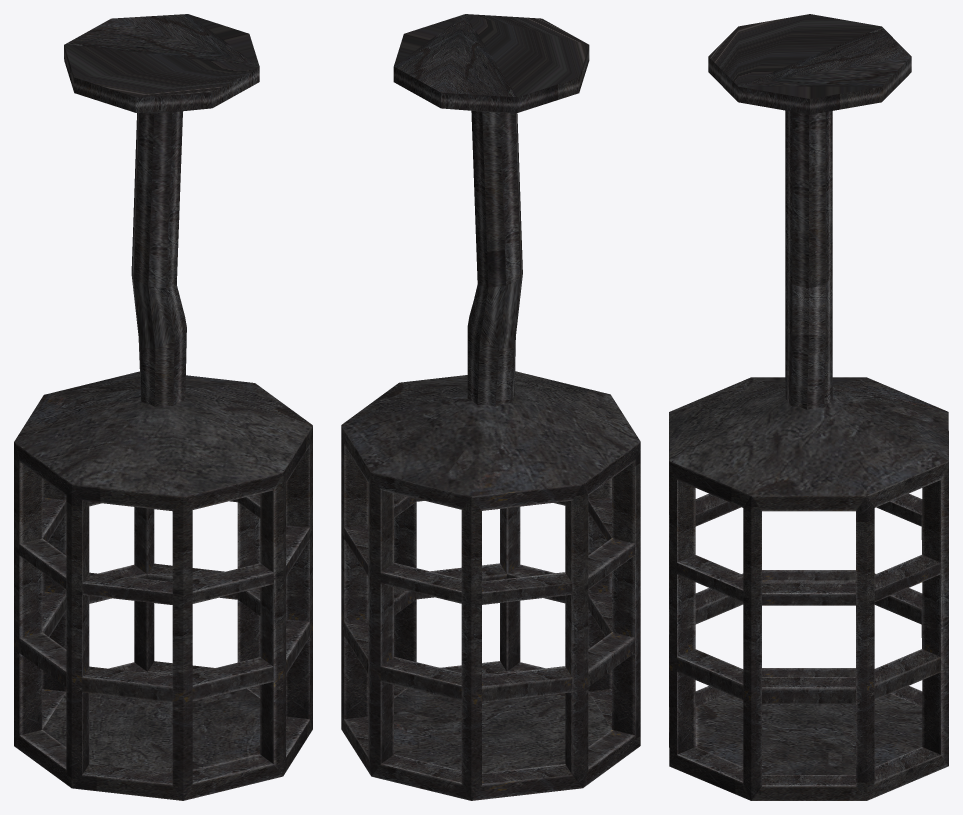
The model's file is tavern_lamp2.dae.
The picture shows the model from 3 angles, left to right: view 1: azimuth 30°, elevation 25°; view 2: azimuth 150°, elevation 25°; view 3: azimuth 270°, elevation 25°; orthographic projection.
Visible parts, largest first — view 1: Default_Layer; view 2: Default_Layer; view 3: Default_Layer.
Boxes of the visible parts, x1=… form: Default_Layer: x1=14, y1=14, x2=312, y2=800; Default_Layer: x1=341, y1=14, x2=640, y2=800; Default_Layer: x1=669, y1=14, x2=948, y2=800.
Size of the model in its own units: 0.4621 by 1.33 by 0.4621.
